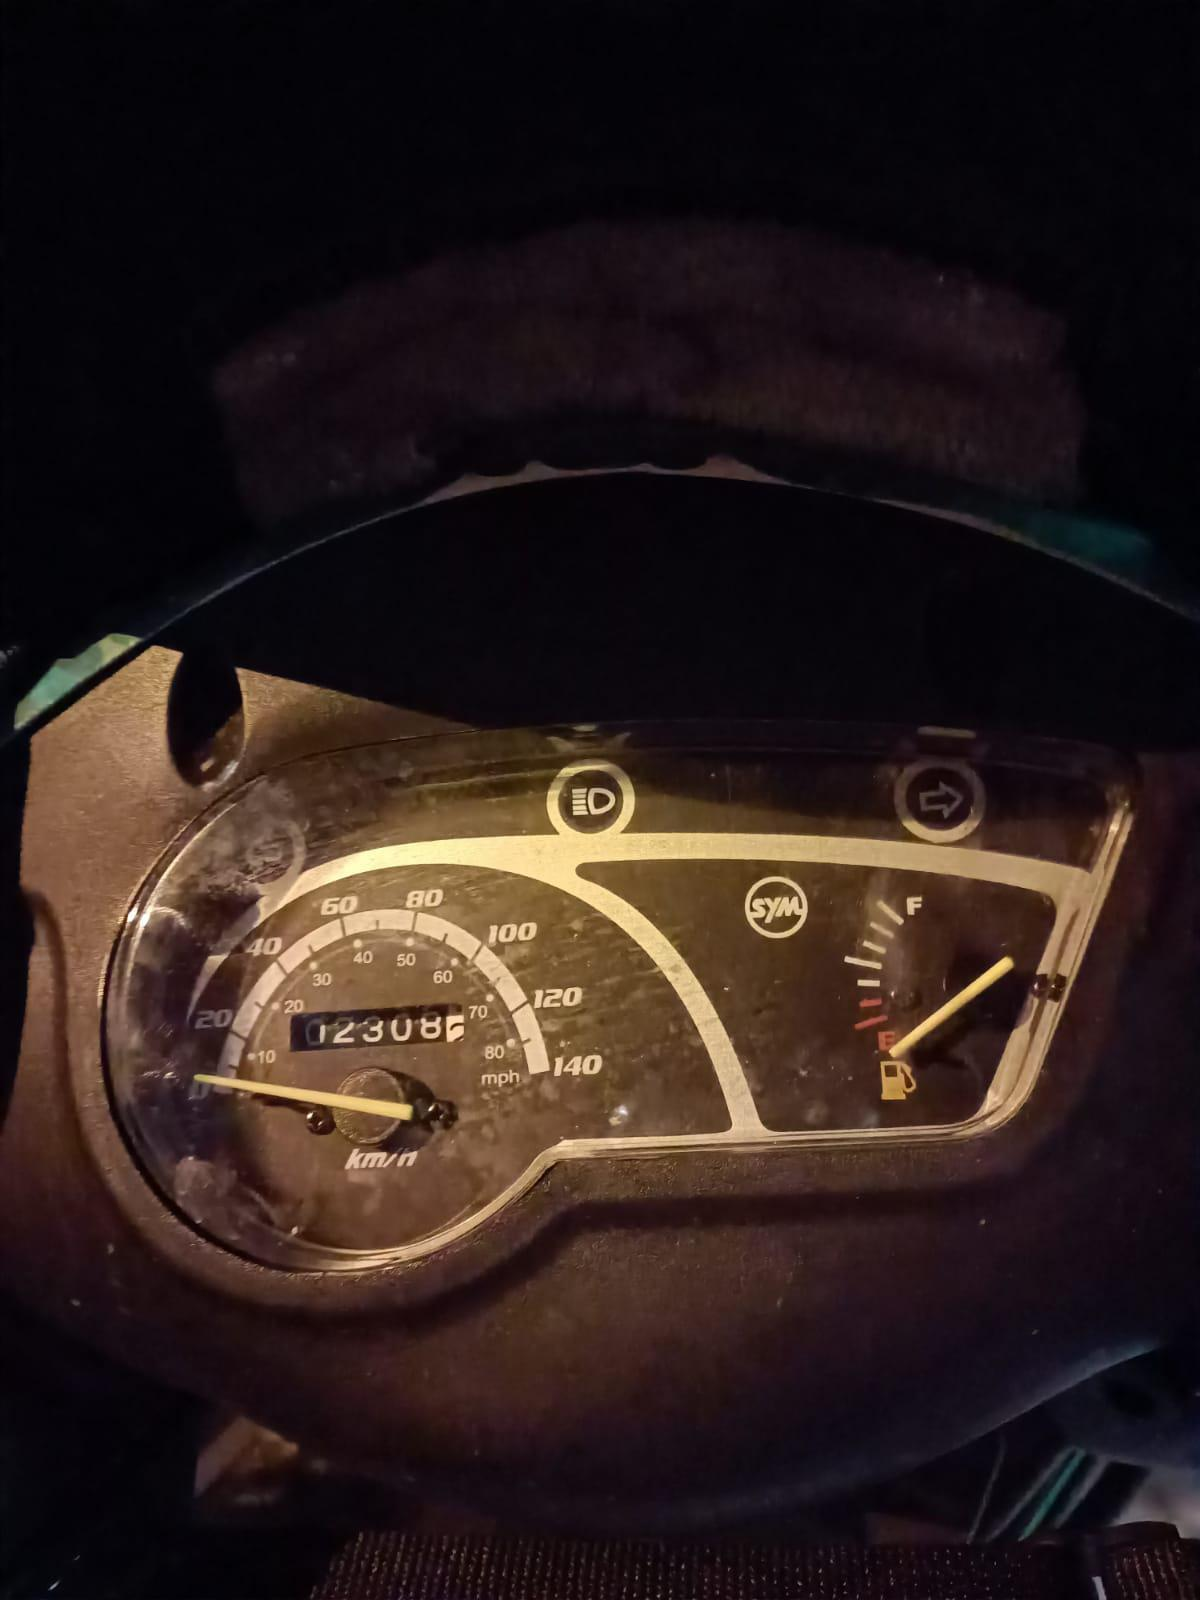0: (388, 1010, 413, 1041), (303, 1015, 326, 1047), (294, 999, 303, 1012)
2: (332, 1015, 355, 1044), (447, 1020, 464, 1042), (284, 1000, 294, 1014)
3: (361, 1014, 384, 1043)
8: (418, 1009, 442, 1041)
odometer: (284, 994, 469, 1058)
